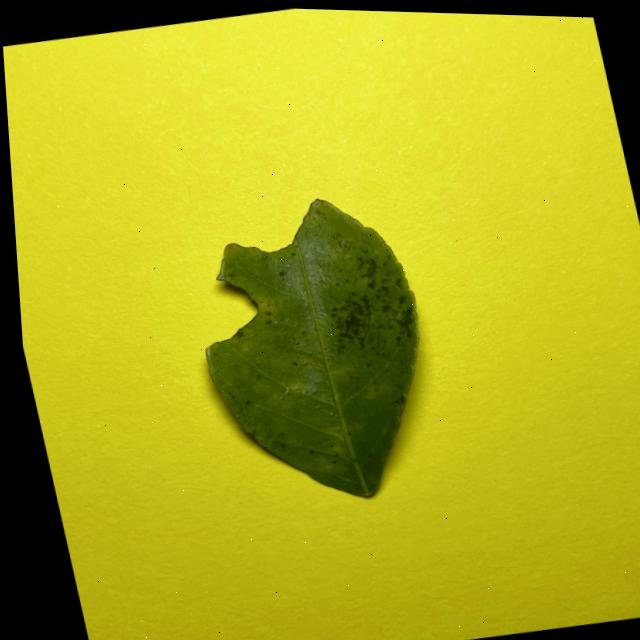sooty_mold: (207, 200, 419, 496)
